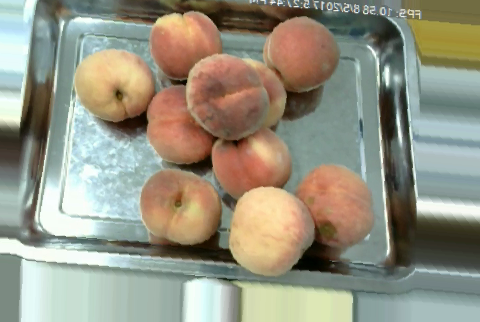Peach: (227, 182, 314, 276), (294, 162, 375, 253), (186, 53, 267, 141), (73, 46, 156, 124), (139, 167, 221, 245), (264, 15, 338, 96), (211, 128, 293, 198), (147, 85, 217, 163), (148, 11, 218, 79)
